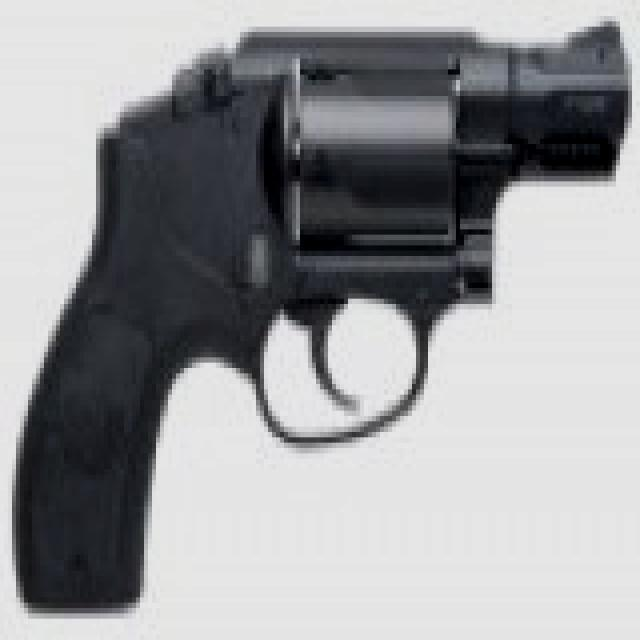pistol: (16, 11, 628, 613)
